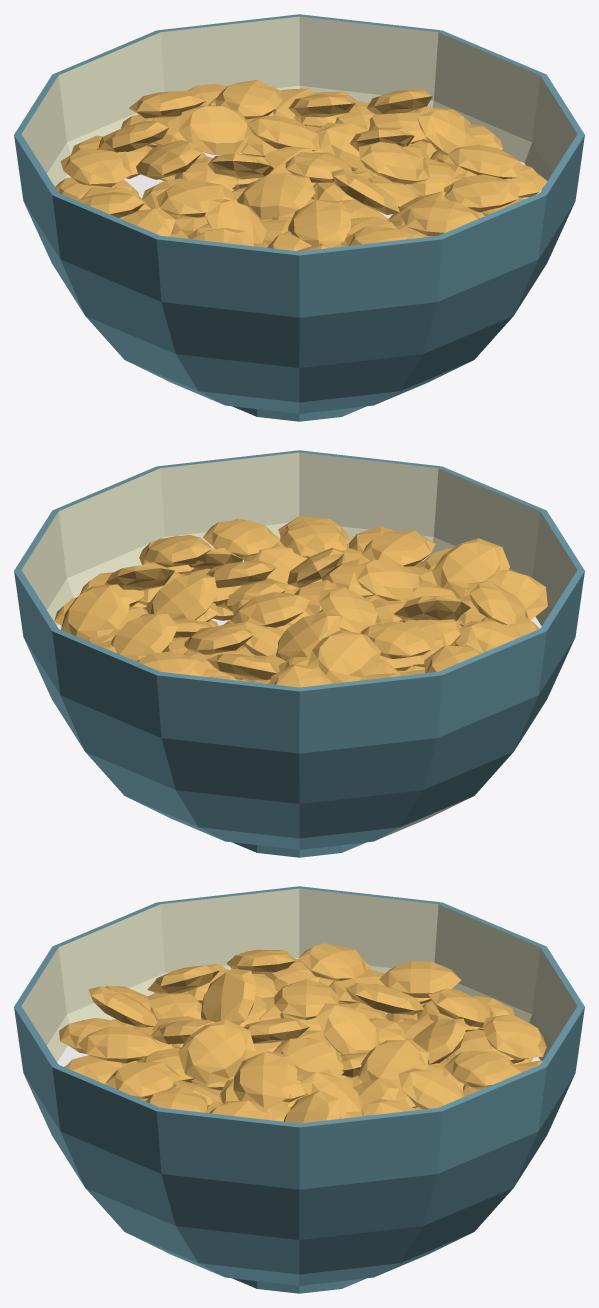
Rendered from plato_cereales.fbx.
The picture shows the model from 3 angles, top to bottom: view 1: azimuth 30°, elevation 25°; view 2: azimuth 150°, elevation 25°; view 3: azimuth 270°, elevation 25°; orthographic projection.
Parts seen in each view (by area): view 1: node-0; view 2: node-0; view 3: node-0.
Part boxes in pixels (<box>): node-0: <box>14,14,584,421</box>; node-0: <box>14,450,584,857</box>; node-0: <box>14,886,584,1293</box>.
Bounding box in the file's own units: 205 × 100 × 205.
